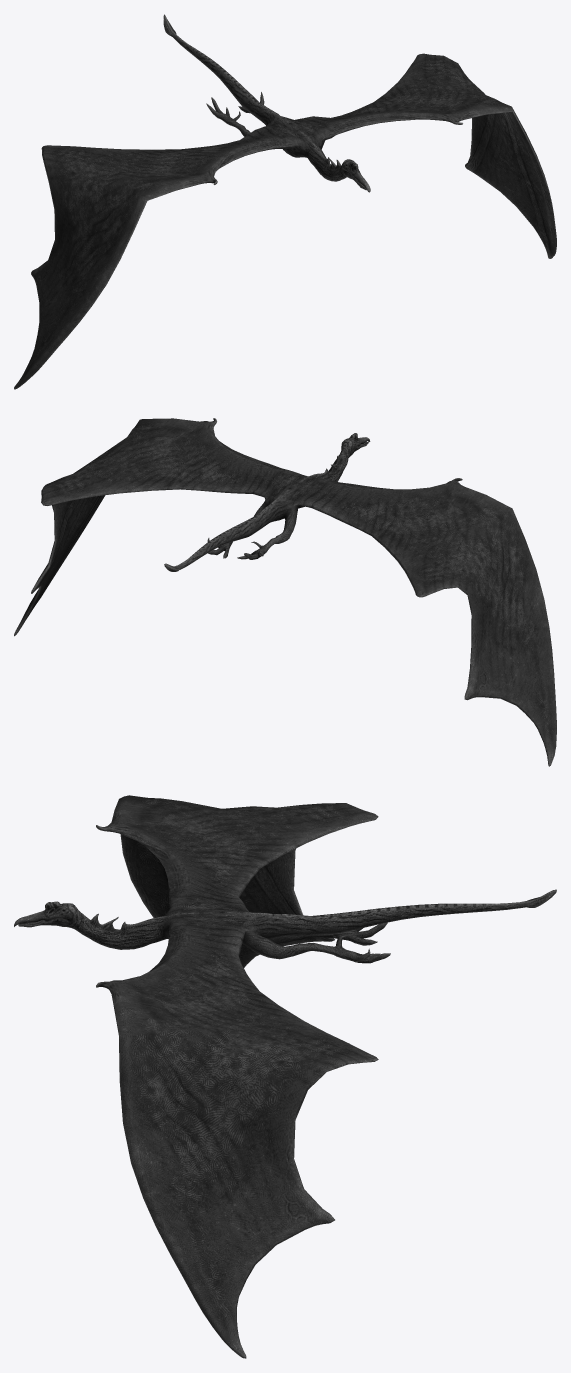
Rendered from Fellbeast_FlyAnim_37.obj.
The picture shows the model from 3 angles, top to bottom: view 1: azimuth 30°, elevation 25°; view 2: azimuth 150°, elevation 25°; view 3: azimuth 270°, elevation 25°; orthographic projection. The views are drawn at different scales.
Parts seen in each view (by area): view 1: Fellbeast; view 2: Fellbeast; view 3: Fellbeast.
Boxes of the visible parts, x1,y1,x2,y2 form: Fellbeast: (14, 14, 556, 389); Fellbeast: (14, 418, 556, 766); Fellbeast: (14, 795, 556, 1358).
Bounding box in the file's own units: 6.6 × 2.63 × 4.37.
